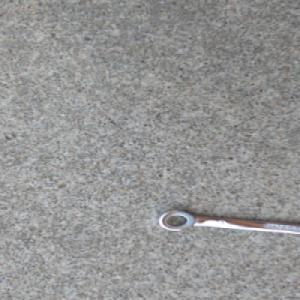Wrench: (155, 209, 300, 238)
